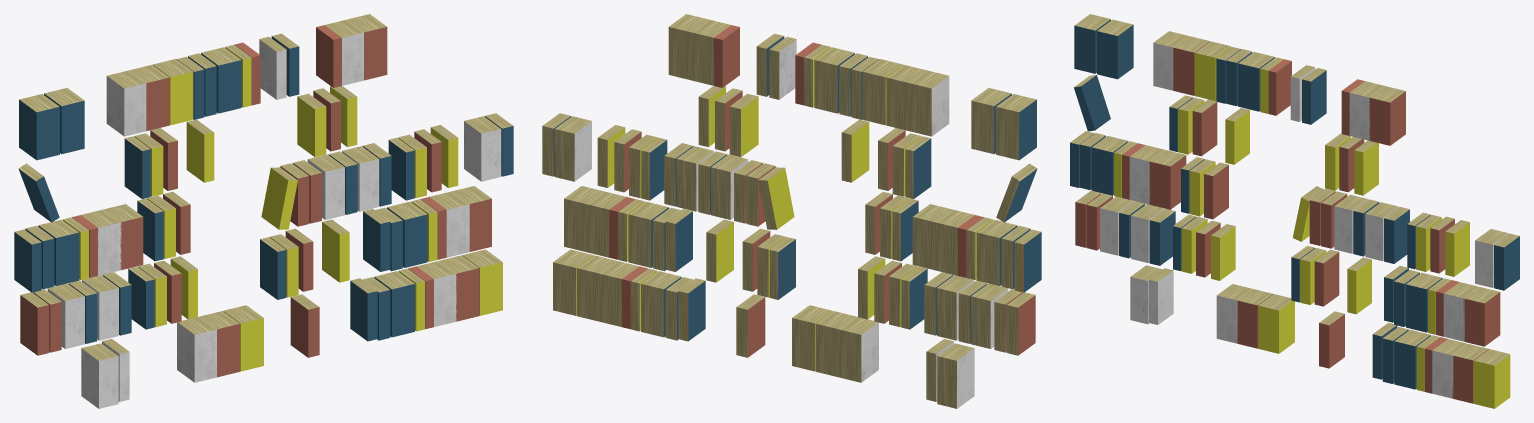
The model's file is BookShelf_Small_Wide_01_Books_01_LOD01.FBX.
The picture shows the model from 3 angles, left to right: view 1: azimuth 30°, elevation 25°; view 2: azimuth 150°, elevation 25°; view 3: azimuth 330°, elevation 25°; orthographic projection. The views are drawn at different scales.
Parts seen in each view (by area): view 1: BookShelf_Small_Wide_01_Books_01_LOD01; view 2: BookShelf_Small_Wide_01_Books_01_LOD01; view 3: BookShelf_Small_Wide_01_Books_01_LOD01.
Boxes of the visible parts, x1,y1,x2,y2 form: BookShelf_Small_Wide_01_Books_01_LOD01: (14,14,513,408); BookShelf_Small_Wide_01_Books_01_LOD01: (542,14,1041,408); BookShelf_Small_Wide_01_Books_01_LOD01: (1070,14,1519,408).
Bounding box in the file's own units: 3.83 × 2.38 × 0.2413.
Materials: 5 (2 with a texture image).
